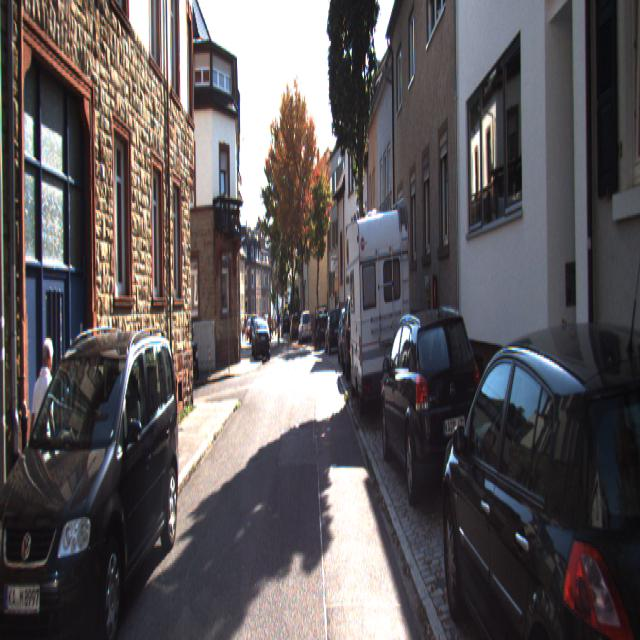Car: (436, 299, 640, 638), (0, 315, 182, 639), (379, 310, 488, 526), (344, 190, 414, 419), (340, 290, 370, 384), (336, 299, 363, 368), (311, 302, 332, 348), (324, 308, 342, 356), (254, 321, 271, 363), (298, 313, 312, 346)
